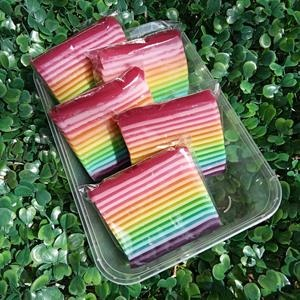kue_lapis_pelangi: (88, 147, 230, 264), (112, 90, 226, 179)
